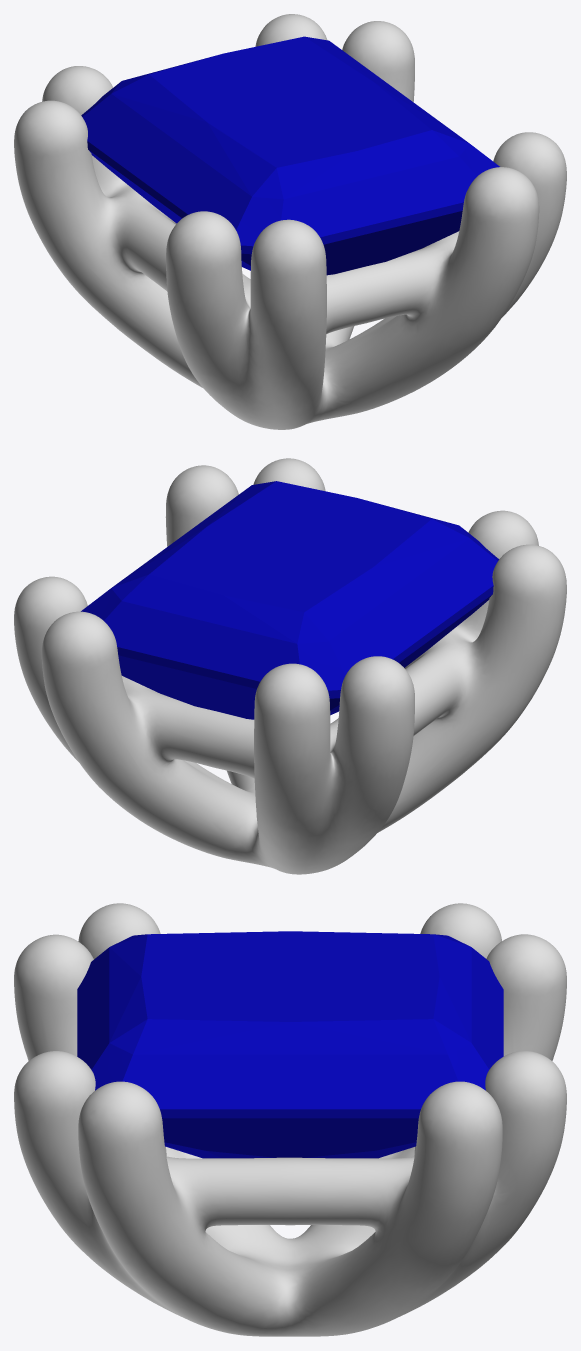
The model's file is Radiant.glb.
3 renders of one model, top to bottom at view 1: azimuth 30°, elevation 25°; view 2: azimuth 150°, elevation 25°; view 3: azimuth 270°, elevation 25°, orthographic. The views are drawn at different scales.
Parts seen in each view (by area): view 1: /GSMOD388300- DOUBLE PRONG_RADIANT_IJ.3dm, Diamond_Radiant; view 2: /GSMOD388300- DOUBLE PRONG_RADIANT_IJ.3dm, Diamond_Radiant; view 3: /GSMOD388300- DOUBLE PRONG_RADIANT_IJ.3dm, Diamond_Radiant.
Boxes of the visible parts, box(x1,y1,x2,y2) form: /GSMOD388300- DOUBLE PRONG_RADIANT_IJ.3dm: box(14, 14, 566, 429); Diamond_Radiant: box(81, 36, 499, 275); /GSMOD388300- DOUBLE PRONG_RADIANT_IJ.3dm: box(14, 458, 566, 874); Diamond_Radiant: box(81, 481, 498, 719); /GSMOD388300- DOUBLE PRONG_RADIANT_IJ.3dm: box(14, 903, 566, 1336); Diamond_Radiant: box(77, 931, 503, 1158).
Bounding box in the file's own units: 8.63 × 6.59 × 9.44.
